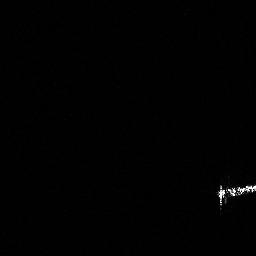ship: (214, 182, 256, 209)
